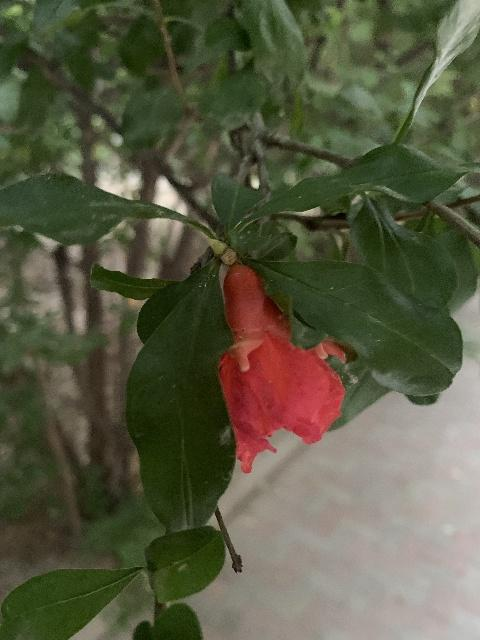flower: (216, 261, 351, 474)
